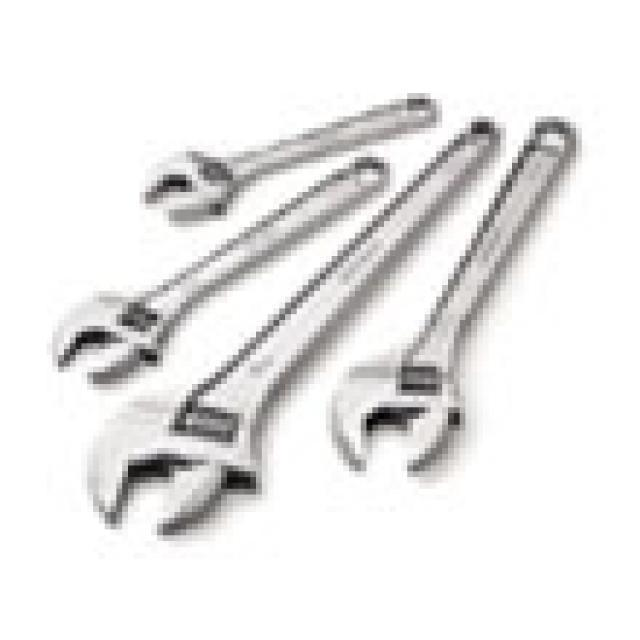wrench: (87, 110, 501, 540), (331, 108, 584, 478), (49, 154, 382, 389), (137, 86, 446, 226)
